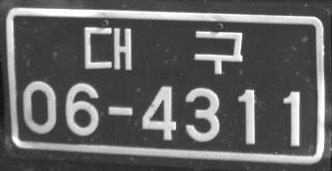0: (23, 80, 57, 135)
1: (275, 91, 313, 146), (230, 87, 266, 144)
3: (184, 85, 220, 142)
4: (141, 84, 176, 141)
6: (66, 81, 99, 136)
대구_D: (84, 25, 242, 74)
